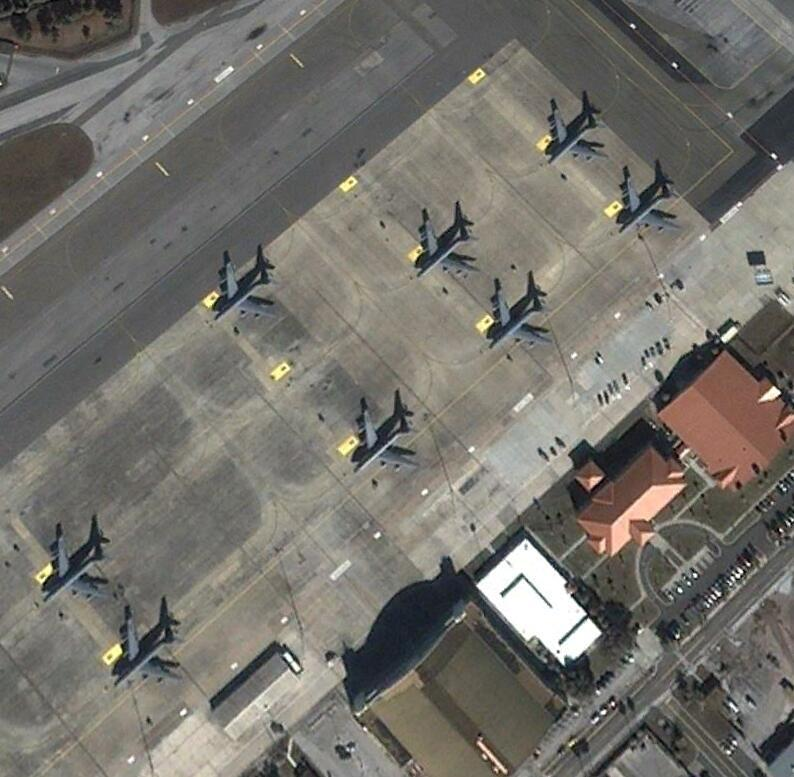A14: (351, 398, 422, 478), (107, 615, 177, 687), (43, 531, 110, 606), (409, 209, 474, 281), (489, 287, 554, 354), (545, 97, 605, 166), (215, 256, 274, 324), (620, 173, 683, 236)
